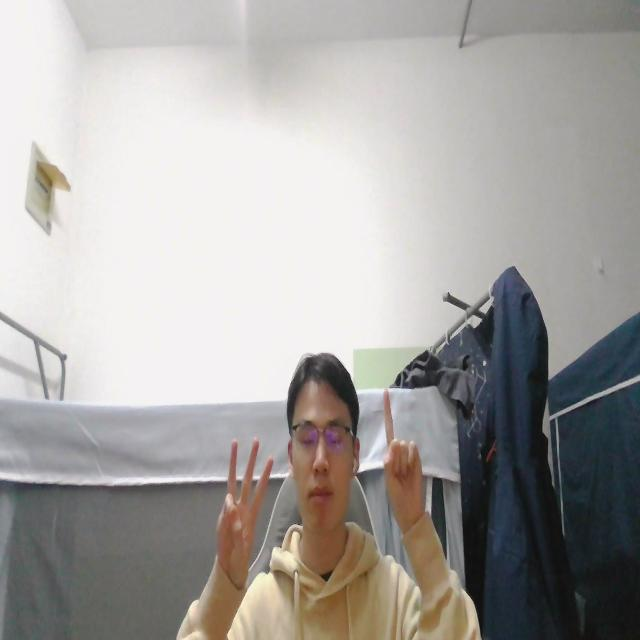one: (375, 383, 427, 522)
three: (221, 432, 274, 560)
